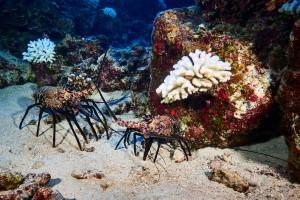bleached_corals: (150, 43, 237, 106), (22, 38, 55, 63)
